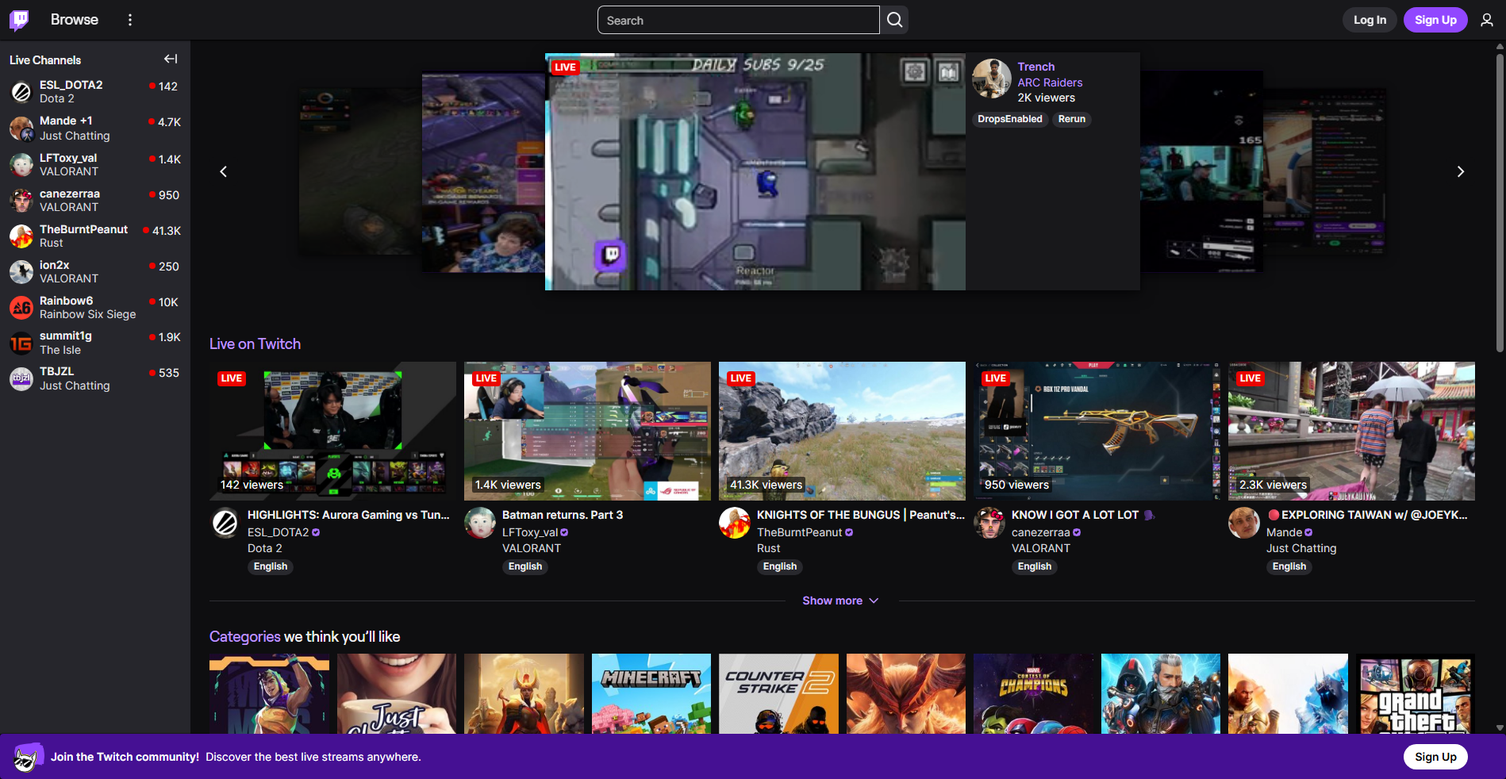general_button: (502, 507, 711, 522), (757, 507, 966, 522), (248, 507, 456, 522), (1012, 507, 1220, 522), (792, 587, 893, 613), (1404, 7, 1468, 33), (1404, 744, 1468, 769), (1343, 7, 1398, 33), (209, 157, 238, 186), (1446, 157, 1475, 186), (117, 7, 143, 33), (158, 46, 183, 71), (886, 10, 905, 29)
general_image: (209, 362, 456, 500), (464, 362, 711, 500), (719, 362, 966, 500), (974, 362, 1220, 500), (209, 654, 329, 779), (464, 654, 584, 779), (846, 654, 966, 779), (1228, 654, 1348, 779), (337, 654, 456, 779), (592, 654, 711, 779), (719, 654, 838, 779), (974, 654, 1093, 779), (1101, 654, 1220, 779), (1356, 654, 1475, 779), (13, 741, 44, 773)
general_link: (209, 362, 456, 500), (464, 362, 711, 500), (719, 362, 966, 500), (974, 362, 1220, 500), (209, 654, 329, 779), (464, 654, 584, 779), (846, 654, 966, 779), (1228, 654, 1348, 779), (337, 654, 456, 779), (592, 654, 711, 779), (719, 654, 838, 779), (974, 654, 1093, 779), (1101, 654, 1220, 779), (1356, 654, 1475, 779), (502, 507, 711, 540), (757, 507, 966, 540), (248, 507, 456, 540), (1012, 507, 1220, 540), (3, 110, 187, 147), (3, 74, 187, 110), (3, 147, 187, 183), (3, 183, 187, 219), (3, 254, 187, 290), (3, 290, 187, 326), (3, 361, 187, 397), (3, 219, 187, 254), (3, 326, 187, 361), (51, 0, 98, 40), (209, 335, 301, 352), (0, 0, 38, 40), (209, 627, 281, 645), (502, 541, 561, 554), (1012, 541, 1070, 554), (502, 559, 549, 575), (248, 559, 294, 575), (757, 559, 803, 575), (1012, 559, 1058, 575), (248, 541, 282, 554), (757, 541, 780, 554)
icon_menu: (1474, 7, 1500, 33)
icon_profile: (209, 507, 241, 538), (464, 507, 496, 538), (719, 507, 751, 538), (974, 507, 1005, 538), (10, 80, 33, 104), (10, 153, 33, 177), (10, 189, 33, 213), (10, 260, 33, 284), (10, 296, 33, 320), (10, 367, 33, 391), (10, 225, 33, 248), (10, 332, 33, 355)
icon_search: (597, 6, 880, 34), (880, 6, 909, 34)
